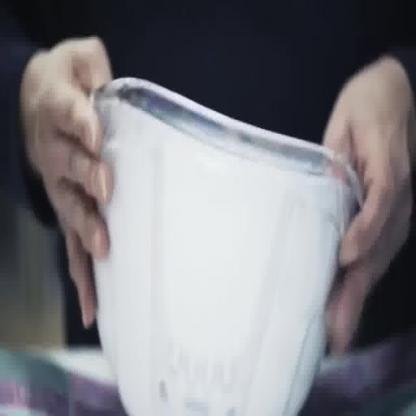helmet: (84, 73, 363, 415)
